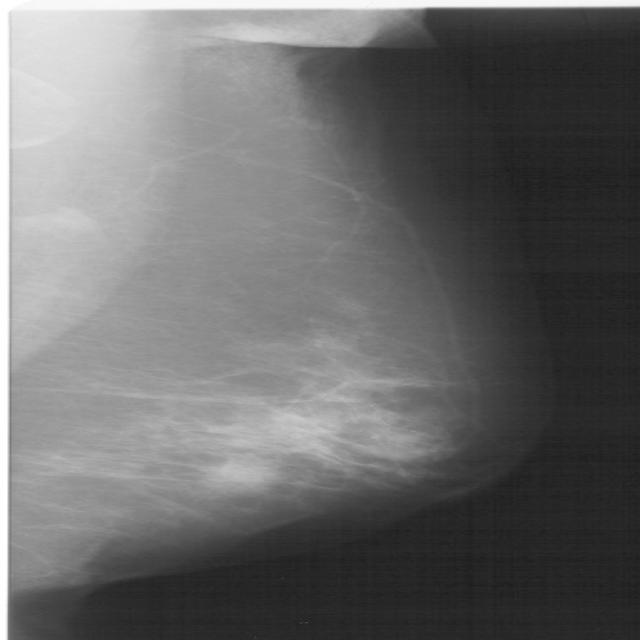tumour: (205, 458, 274, 492)
